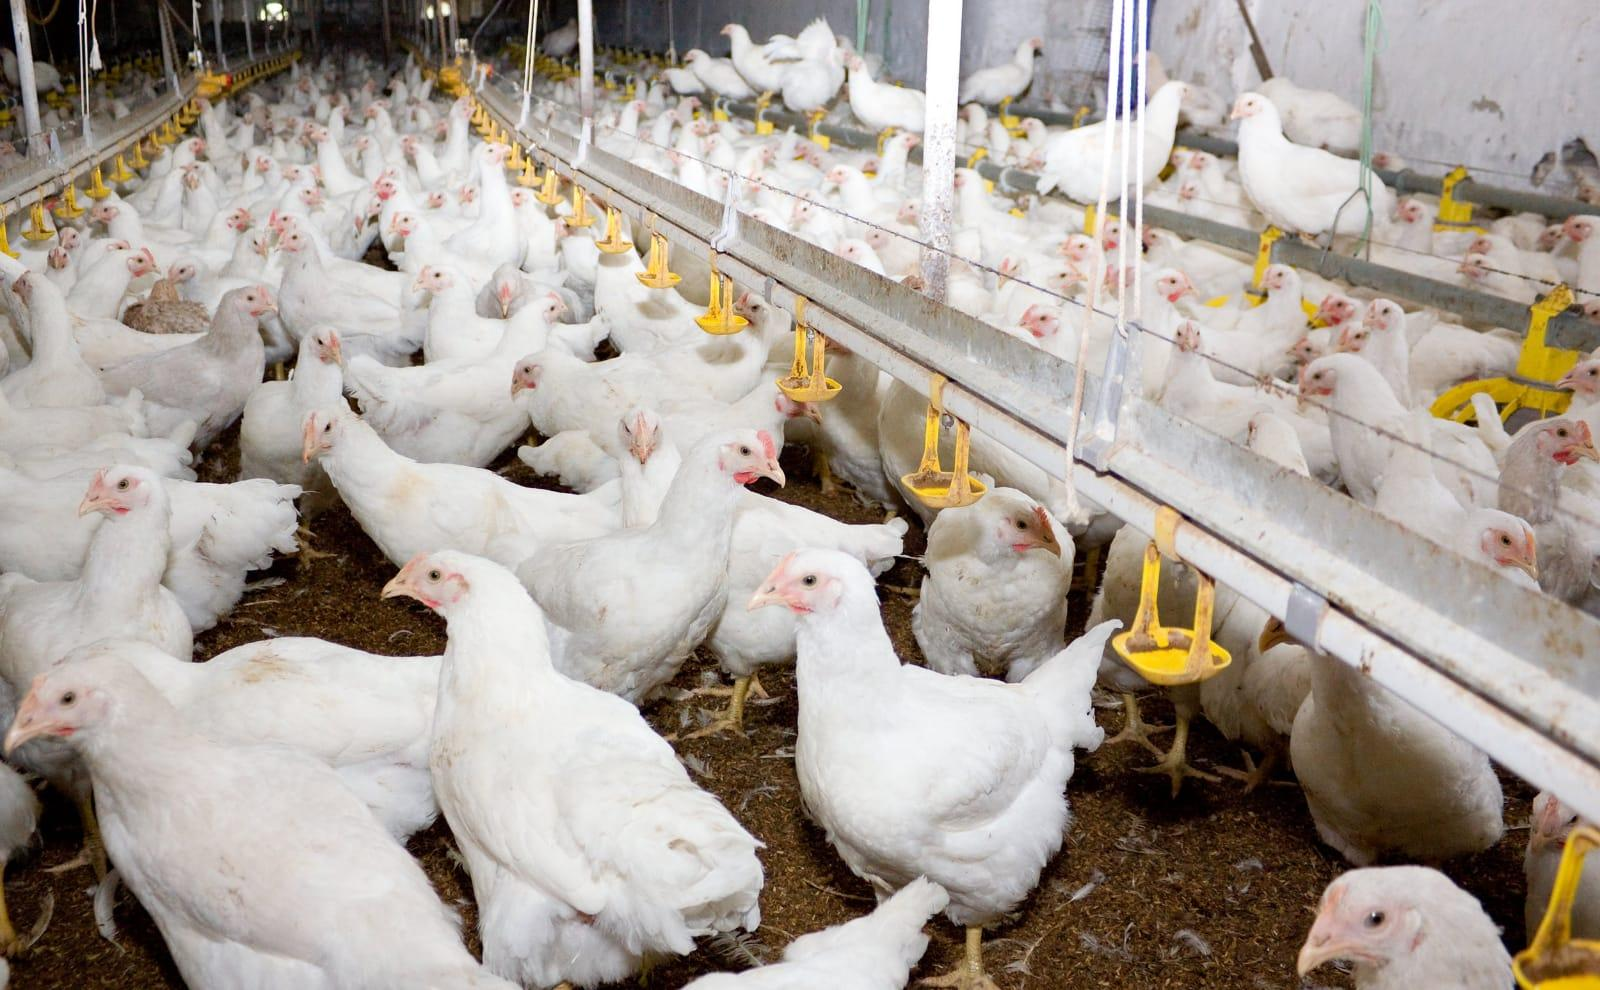Healthy: (370, 527, 773, 963), (743, 522, 1117, 955), (7, 626, 441, 990)
